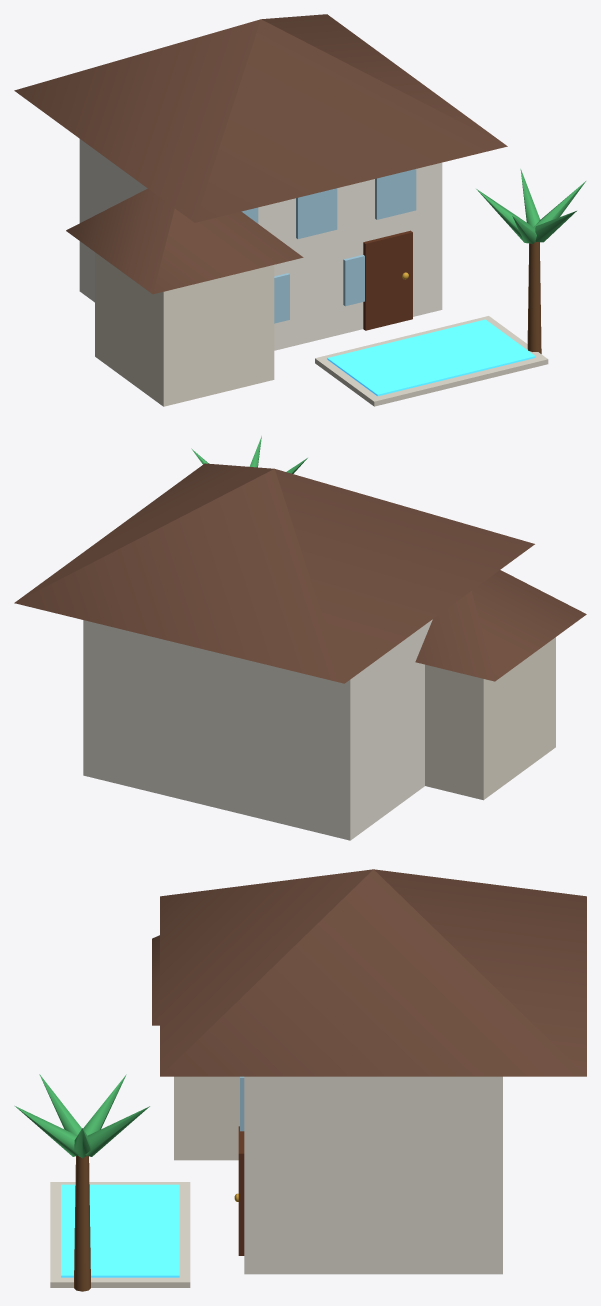
Rendered from res_villa.glb.
The picture shows the model from 3 angles, top to bottom: view 1: azimuth 30°, elevation 25°; view 2: azimuth 150°, elevation 25°; view 3: azimuth 270°, elevation 25°; orthographic projection. The views are drawn at different scales.
Size of the model in its own units: 5.12 by 3.4 by 5.32.
